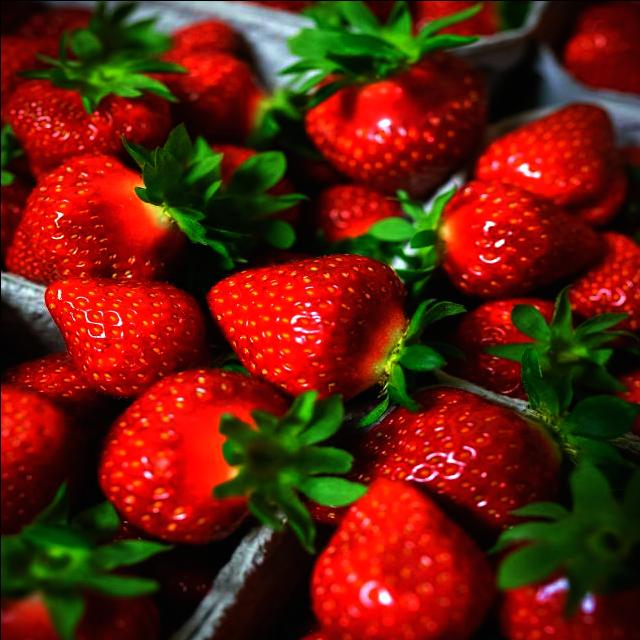ripe: (91, 364, 296, 546), (338, 381, 570, 536), (203, 246, 414, 404), (304, 478, 496, 640), (304, 35, 496, 191), (8, 152, 202, 282), (431, 186, 609, 296), (5, 57, 178, 166), (54, 277, 205, 396), (488, 526, 640, 640), (474, 92, 618, 200), (0, 555, 175, 640), (173, 141, 303, 245), (0, 381, 77, 532), (162, 40, 268, 138), (551, 0, 640, 83)
